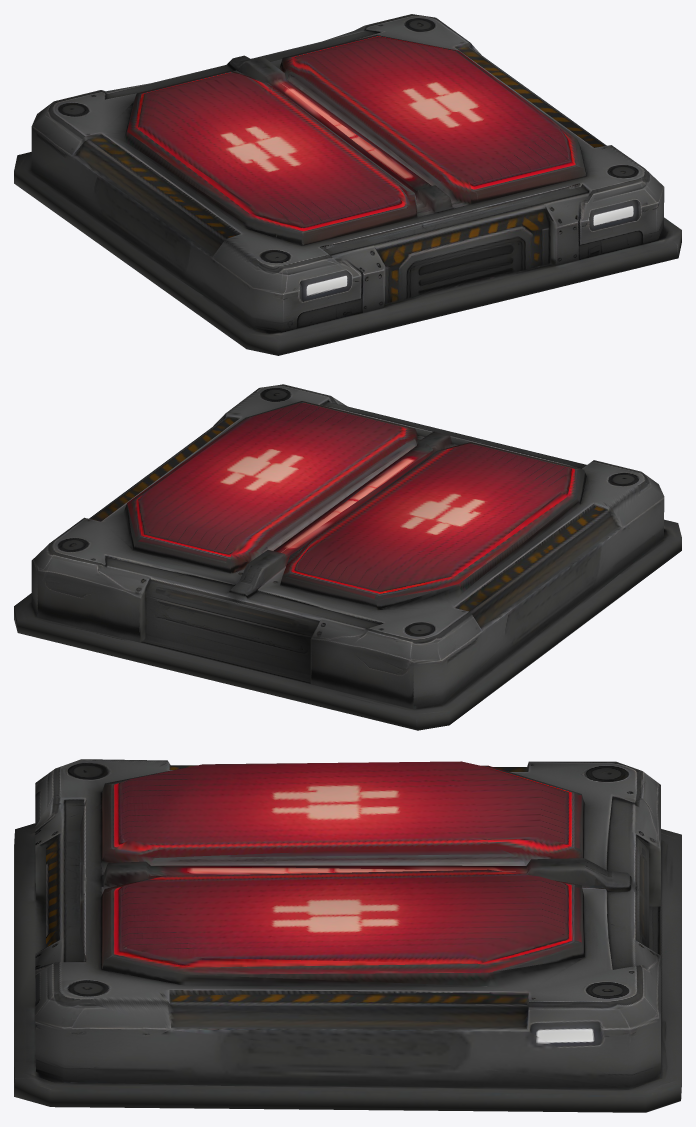
Rendered from CloneButtons.fbx.
3 views of the same model, one above another, from view 1: azimuth 30°, elevation 25°; view 2: azimuth 150°, elevation 25°; view 3: azimuth 270°, elevation 25° (orthographic). The views are drawn at different scales.
Parts seen in each view (by area): view 1: Base, ButtonLeft, ButtonRight, Indicator; view 2: Base, ButtonLeft, ButtonRight, Indicator; view 3: Base, ButtonRight, ButtonLeft, Indicator.
Boxes of the visible parts, x1,y1,x2,y2 form: Base: (14,14,681,355); ButtonLeft: (137,73,407,230); ButtonRight: (293,36,573,190); Indicator: (270,80,431,199); Base: (14,384,681,730); ButtonLeft: (293,443,574,590); ButtonRight: (137,403,407,554); Indicator: (274,446,433,563); Base: (14,759,681,1112); ButtonRight: (114,869,567,967); ButtonLeft: (114,761,567,857); Indicator: (150,865,526,878).
Size of the model in its own units: 0.9668 by 0.2005 by 1.
